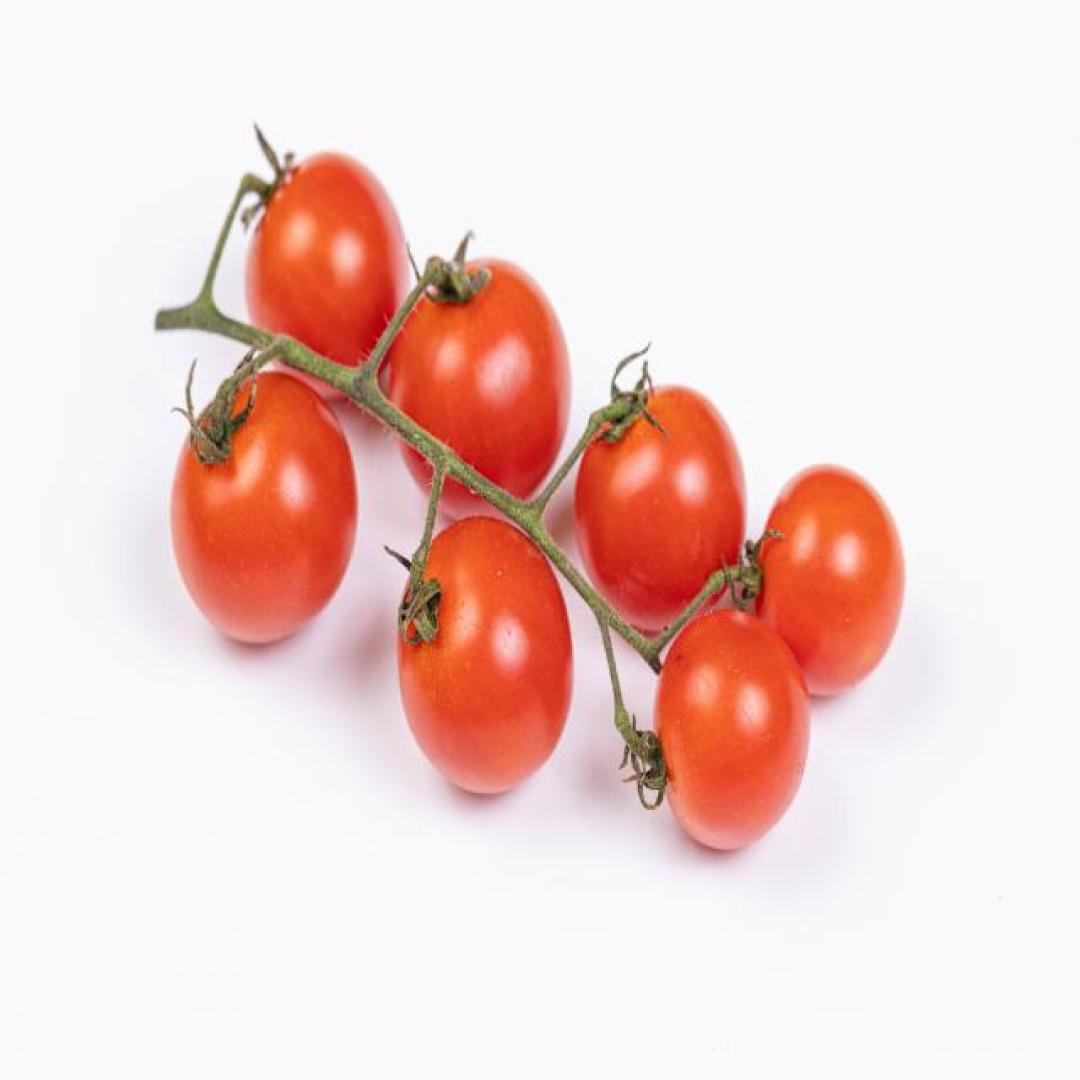matang: (386, 262, 572, 540), (170, 373, 358, 643), (398, 516, 572, 798), (574, 385, 749, 629), (243, 150, 408, 400), (653, 611, 812, 850), (756, 464, 904, 690)
